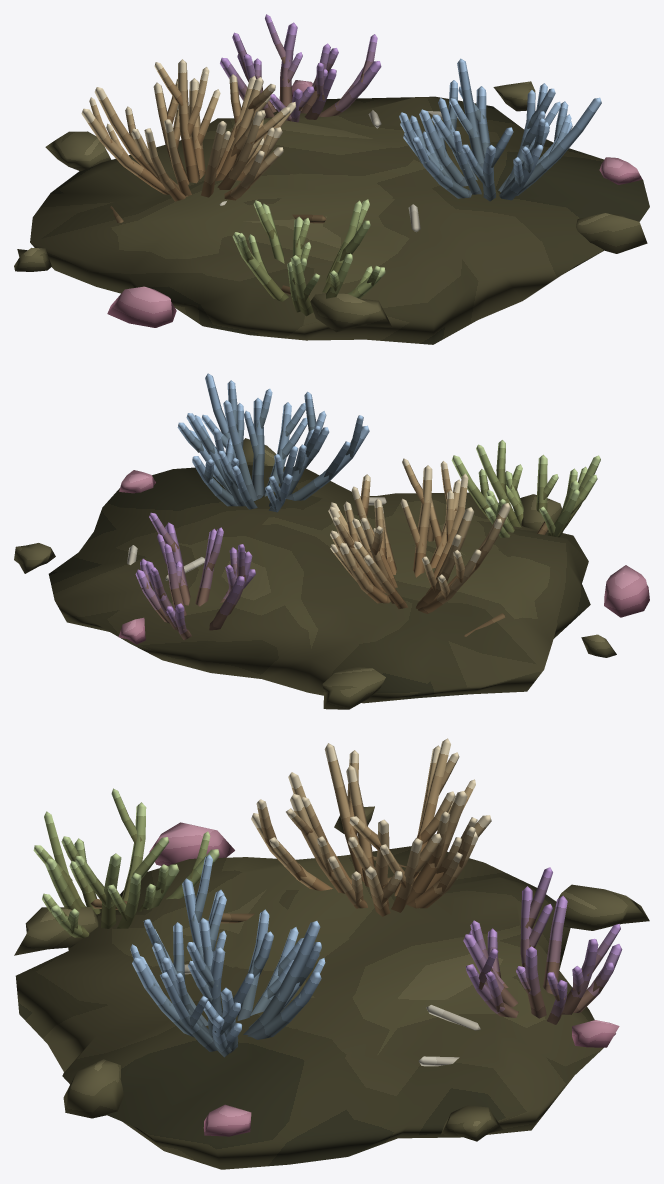
3 views of the same model, one above another, from view 1: azimuth 30°, elevation 25°; view 2: azimuth 150°, elevation 25°; view 3: azimuth 270°, elevation 25° (orthographic). The views are drawn at different scales.
Visible parts, largest first — view 1: coral; view 2: coral; view 3: coral.
Part boxes in pixels (x1,y1,x2,y2): coral: [14, 14, 649, 344]; coral: [14, 373, 649, 709]; coral: [14, 738, 649, 1169].
Bounding box in the file's own units: 2.95 × 0.8321 × 2.43.
Materials: 1 (1 with a texture image).
